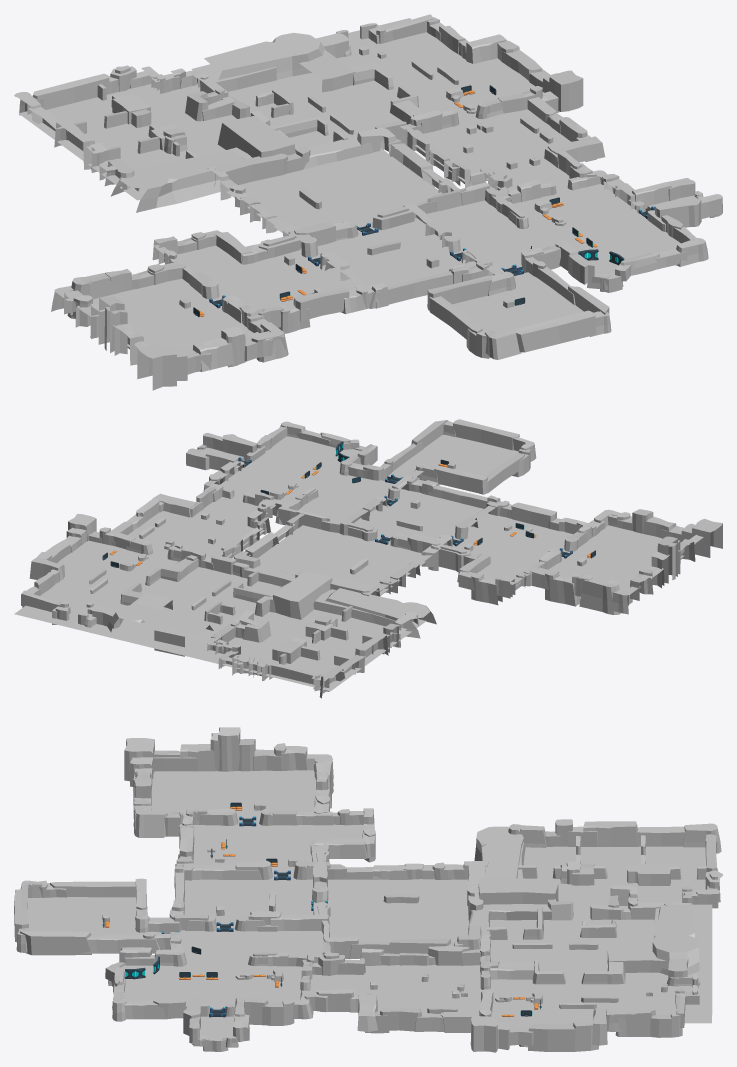
File: LVL_test_1.fbx
3 renders of one model, top to bottom at view 1: azimuth 30°, elevation 25°; view 2: azimuth 150°, elevation 25°; view 3: azimuth 270°, elevation 25°, orthographic. The views are drawn at different scales.
Parts seen in each view (by area): view 1: Plane.026, Plane.016, Plane.019; view 2: Plane.026, Plane.016, Plane.019; view 3: Plane.026, Plane.016, Plane.019.
Part boxes in pixels (<box>): Plane.026: <box>14,14,722,390</box>; Plane.016: <box>18,18,696,351</box>; Plane.019: <box>61,41,627,323</box>; Plane.026: <box>21,419,722,698</box>; Plane.016: <box>14,434,684,691</box>; Plane.019: <box>71,453,600,673</box>; Plane.026: <box>14,727,722,1052</box>; Plane.016: <box>28,770,712,1037</box>; Plane.019: <box>76,802,693,1024</box>.
Bounding box in the file's own units: 26110 × 27490 × 2516.
